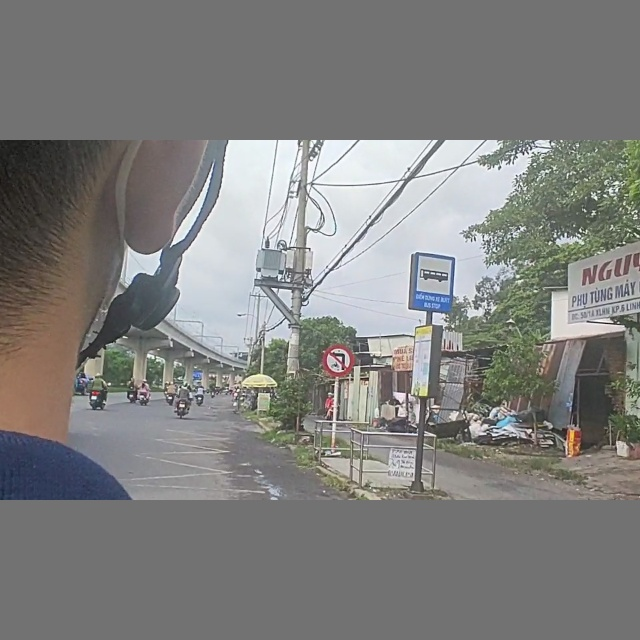I.434a: (411, 252, 455, 314)
P.123a: (323, 345, 356, 377)
